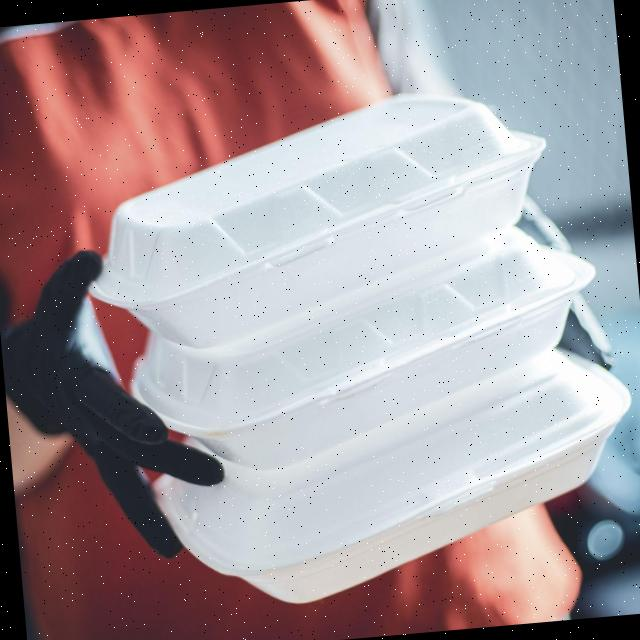styrofoam: (71, 73, 640, 620)
